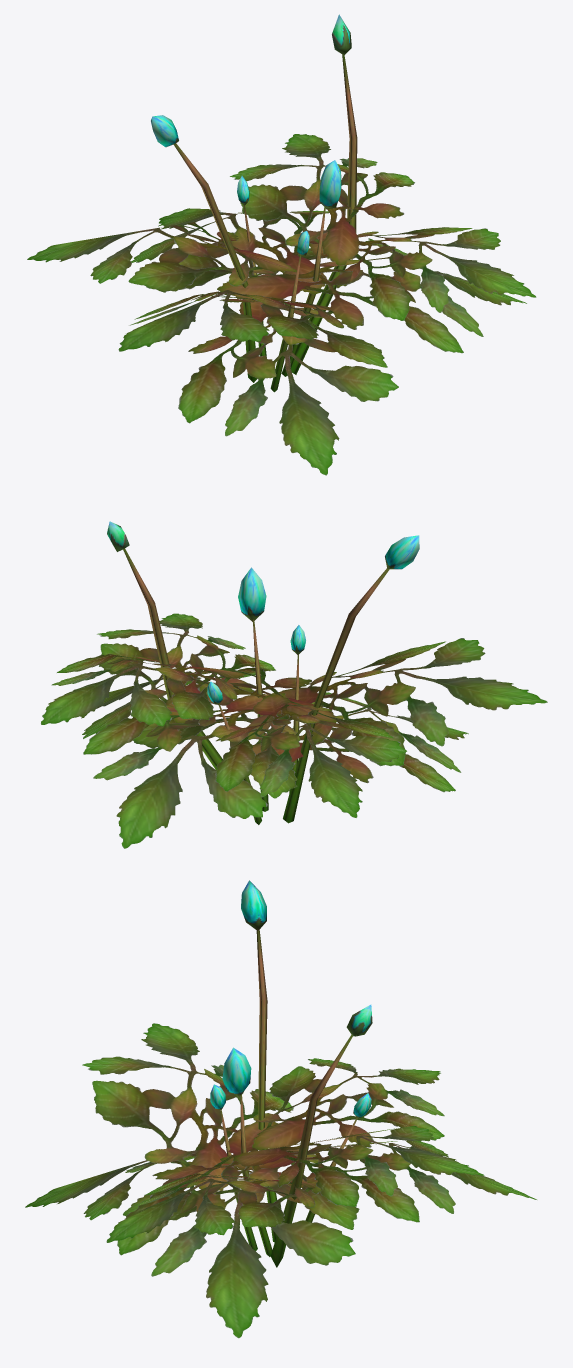
File: yw_huanghunhupan_hua01.FBX
3 views of the same model, one above another, from view 1: azimuth 30°, elevation 25°; view 2: azimuth 150°, elevation 25°; view 3: azimuth 270°, elevation 25° (orthographic).
Parts seen in each view (by area): view 1: yw_huanghunhupan_hua01; view 2: yw_huanghunhupan_hua01; view 3: yw_huanghunhupan_hua01.
Part boxes in pixels (box(x1,y1,x2,y2)): yw_huanghunhupan_hua01: box(27, 14, 536, 475); yw_huanghunhupan_hua01: box(41, 521, 547, 848); yw_huanghunhupan_hua01: box(25, 880, 536, 1338).
Bounding box in the file's own units: 124 × 74.86 × 119.
